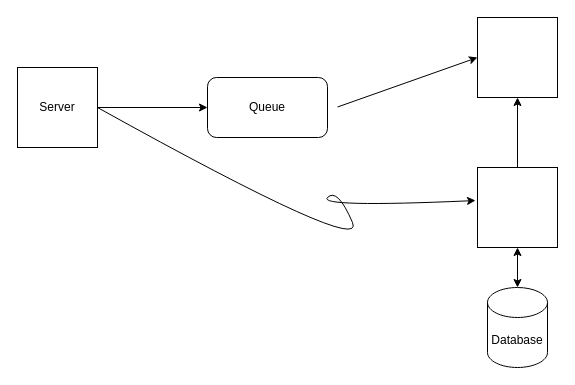
This 575x385 diagram has some shape labels left out. The shapes that lost their labels are listed below. From the top down, each one's centre as x and y in pixels, then its label:
point 517,57: Workers
point 517,207: Scheduler
